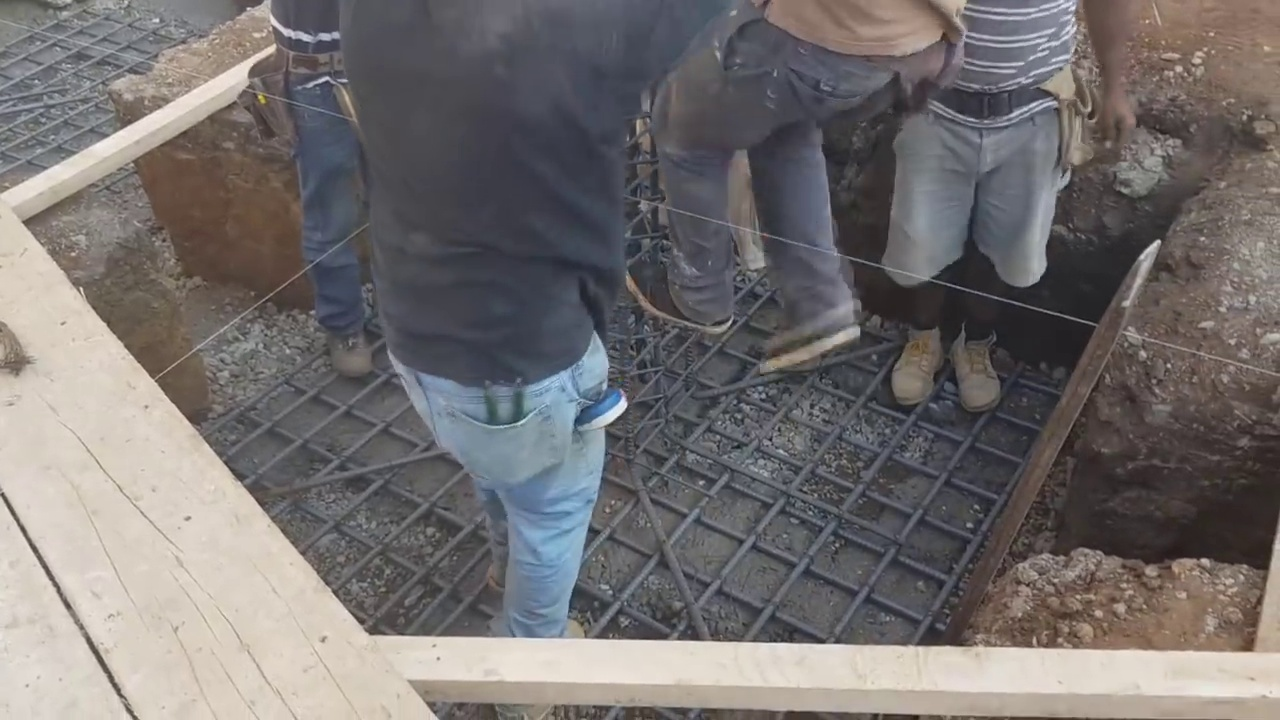person: (337, 2, 729, 639), (627, 2, 968, 372), (888, 5, 1135, 417), (268, 3, 375, 382)
